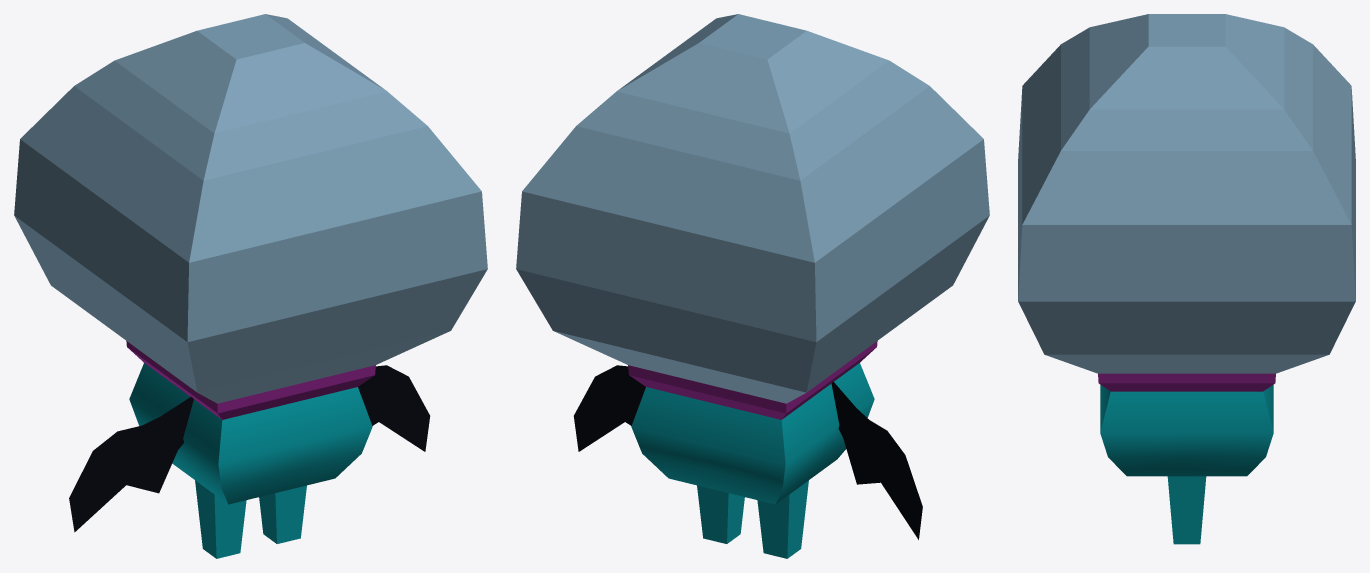
The model's file is bennybat.obj.
3 renders of one model, left to right at view 1: azimuth 30°, elevation 25°; view 2: azimuth 150°, elevation 25°; view 3: azimuth 270°, elevation 25°, orthographic. The views are drawn at different scales.
Parts seen in each view (by area): view 1: group4 pCube2, group4 pPlane1, group4 pPlane2, group4 pCube3, pCube4 group4; view 2: group4 pCube2, group4 pPlane1, group4 pPlane2, group4 pCube3, pCube4 group4; view 3: group4 pCube2, pCube4 group4.
Part boxes in pixels (x1,y1,x2,y2): group4 pCube2: (14, 14, 487, 504); group4 pPlane1: (69, 397, 193, 532); group4 pPlane2: (358, 365, 430, 451); group4 pCube3: (195, 480, 246, 558); pCube4 group4: (259, 485, 306, 543); group4 pCube2: (516, 14, 989, 504); group4 pPlane1: (831, 381, 922, 539); group4 pPlane2: (573, 365, 645, 451); group4 pCube3: (757, 480, 808, 558); pCube4 group4: (697, 485, 744, 543); group4 pCube2: (1018, 14, 1355, 476); pCube4 group4: (1167, 476, 1206, 544).
Bounding box in the file's own units: 3.32 × 4.53 × 2.81.
